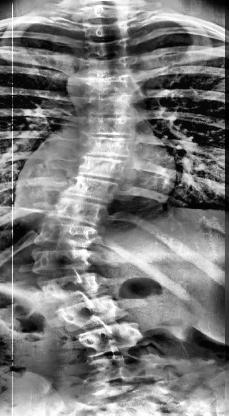Vertebrae: (76, 322, 144, 360), (63, 296, 127, 330), (38, 218, 106, 249), (40, 270, 112, 298), (47, 196, 111, 226), (32, 248, 100, 274), (78, 154, 134, 184), (68, 173, 120, 205), (87, 113, 145, 141), (84, 133, 142, 159), (82, 56, 138, 78), (90, 95, 140, 118), (81, 22, 137, 42), (89, 74, 137, 96), (80, 41, 133, 59)
